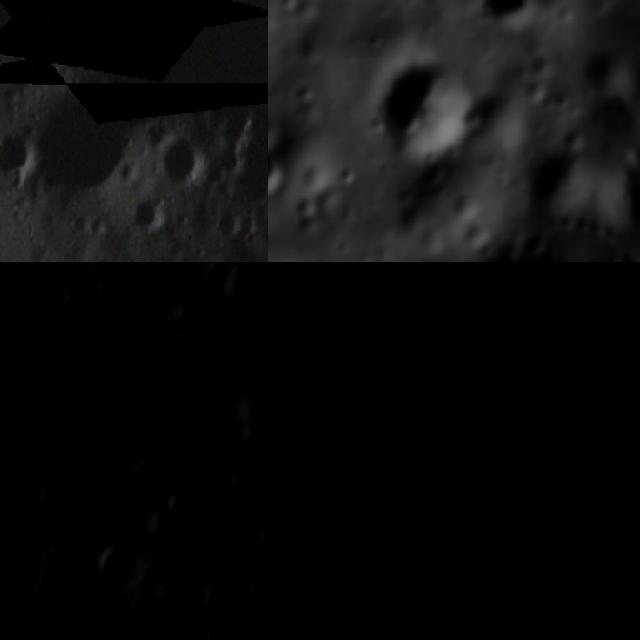crater: (361, 42, 486, 173), (35, 85, 158, 211), (507, 262, 622, 312), (0, 489, 45, 608), (464, 0, 555, 41), (159, 133, 215, 192), (121, 456, 176, 512), (510, 372, 570, 422), (224, 262, 268, 324), (0, 122, 39, 188), (96, 538, 138, 596), (598, 555, 640, 613), (566, 598, 619, 640), (268, 143, 295, 210), (132, 188, 168, 237), (181, 395, 224, 436), (378, 262, 431, 290), (26, 0, 65, 37), (201, 584, 232, 629), (236, 204, 268, 243), (232, 467, 268, 500), (214, 205, 246, 242), (157, 491, 193, 522), (251, 530, 268, 573), (88, 213, 112, 241)
